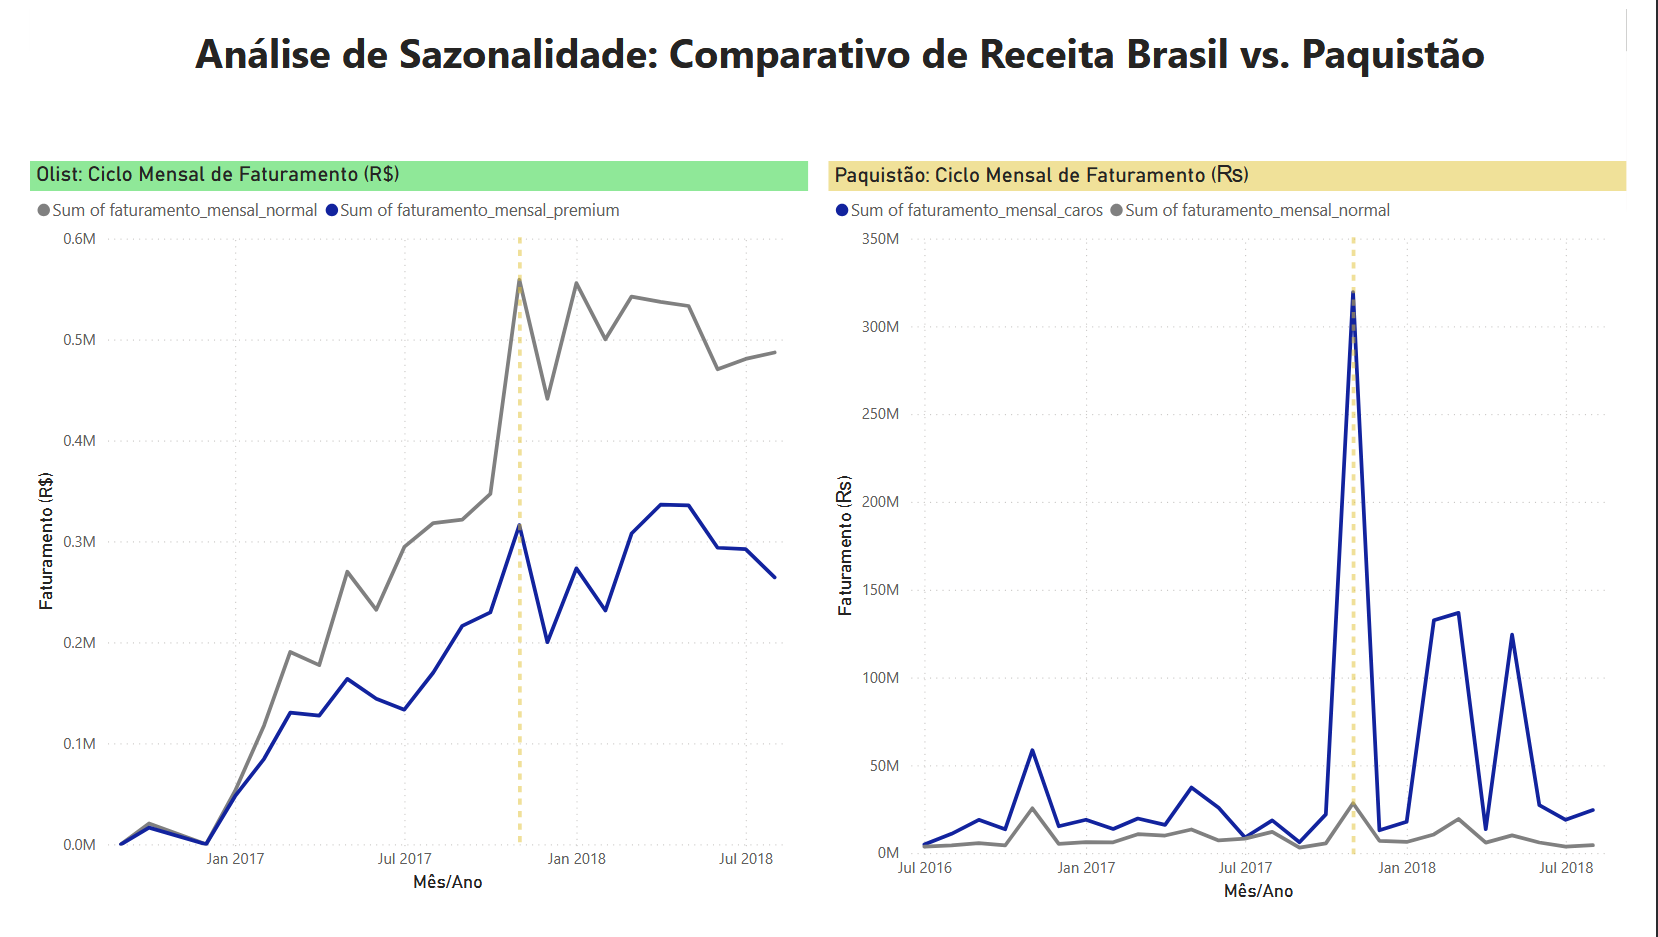

Layout of this report page (visuals, bound fields, positions):
{"tool":"powerbi","page":{"name":"Faturamento_Mensal","canvas":[1280,720],"ordinal":2},"visuals":[{"type":"lineChart","title":"Paquistão: Ciclo Mensal de Faturamento (₨)","fields":{"Y":["Sum(venda_bruto_mensal_por_segmento.faturamento_mensal_caros)","Sum(venda_bruto_mensal_por_segmento.faturamento_mensal_normal)"],"Category":["venda_bruto_mensal_por_segmento.MES_ANO_REF.Variation.Hierarquia de datas.Ano","venda_bruto_mensal_por_segmento.MES_ANO_REF.Variation.Hierarquia de datas.Trimestre","venda_bruto_mensal_por_segmento.MES_ANO_REF.Variation.Hierarquia de datas.Mês","venda_bruto_mensal_por_segmento.MES_ANO_REF.Variation.Hierarquia de datas.Dia"]},"box":[640,121.6,640,598.6],"z":0},{"type":"textbox","box":[96.6,6.9,1105.8,85.4],"z":1000},{"type":"lineChart","title":"Olist: Ciclo Mensal de Faturamento (R$)","fields":{"Y":["Sum(pb_faturamento_mensal_olist.faturamento_mensal_normal)","Sum(pb_faturamento_mensal_olist.faturamento_mensal_premium)"],"Category":["pb_faturamento_mensal_olist.DATA_REF_MENSAL.Variation.Hierarquia de datas.Ano","pb_faturamento_mensal_olist.DATA_REF_MENSAL.Variation.Hierarquia de datas.Trimestre","pb_faturamento_mensal_olist.DATA_REF_MENSAL.Variation.Hierarquia de datas.Mês","pb_faturamento_mensal_olist.DATA_REF_MENSAL.Variation.Hierarquia de datas.Dia"]},"box":[0,121.6,623.6,591.7],"z":2000}]}

Visuals, with their boxes in screenshot pixels (x1, y1, x2, y2), scaled from the page's 1280x720 canvas onto the 1658x937 screenshot:
"Paquistão: Ciclo Mensal de Faturamento (₨)" lineChart: region(829, 158, 1657, 936)
textbox: region(125, 9, 1557, 120)
"Olist: Ciclo Mensal de Faturamento (R$)" lineChart: region(0, 158, 808, 928)
